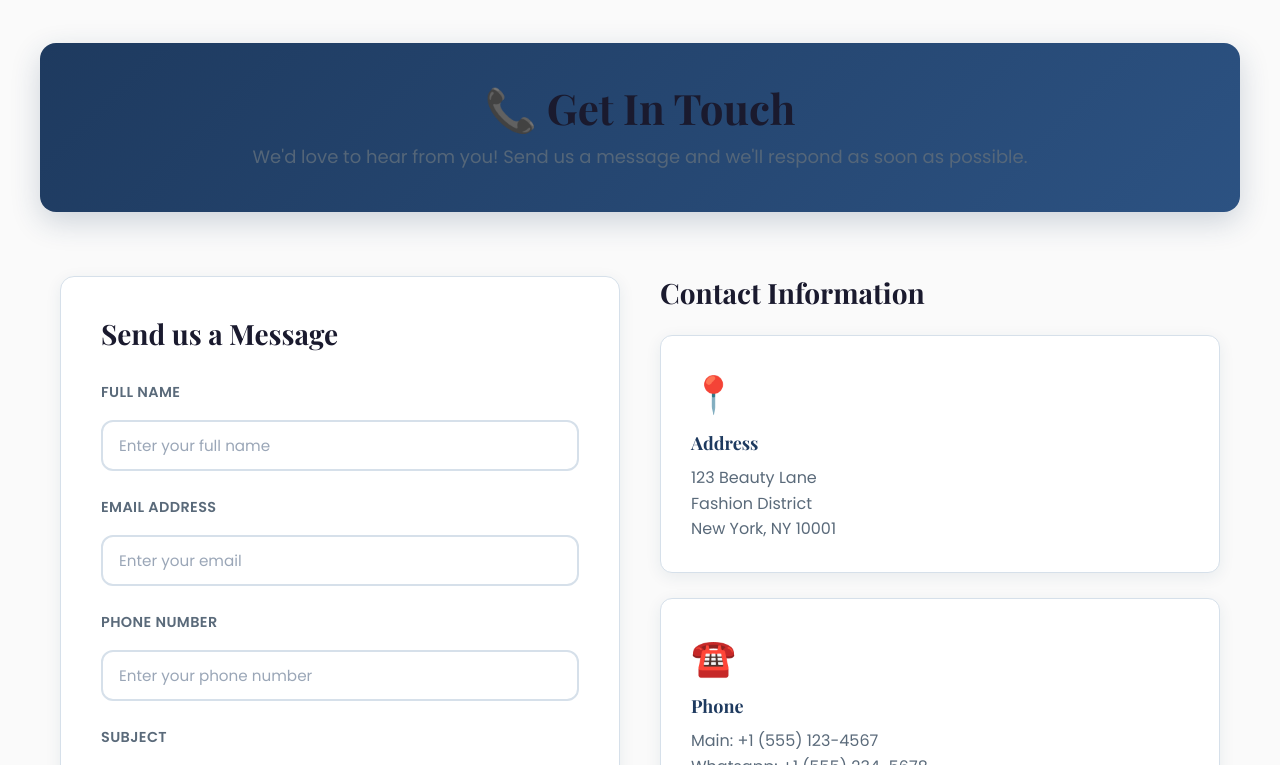
it: ContactUs page › shows success message after all fields are filled and submitted
The width and height of the screenshot is (1280, 765).
Type "Jane" into the field with placeholder "Enter your full name" at (340, 445), box [101,420,579,471]
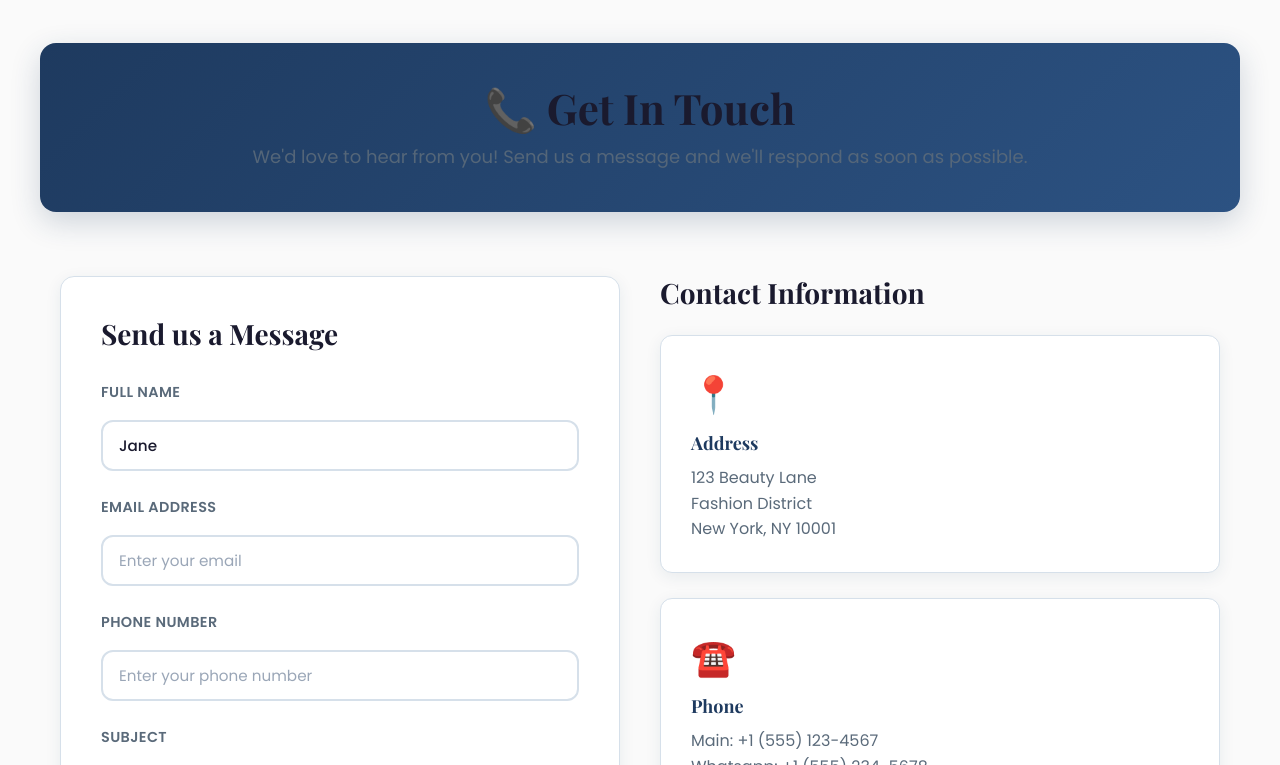
Type "jane@test.com" into the field with placeholder "Enter your email" at (340, 560), box [101,535,579,586]
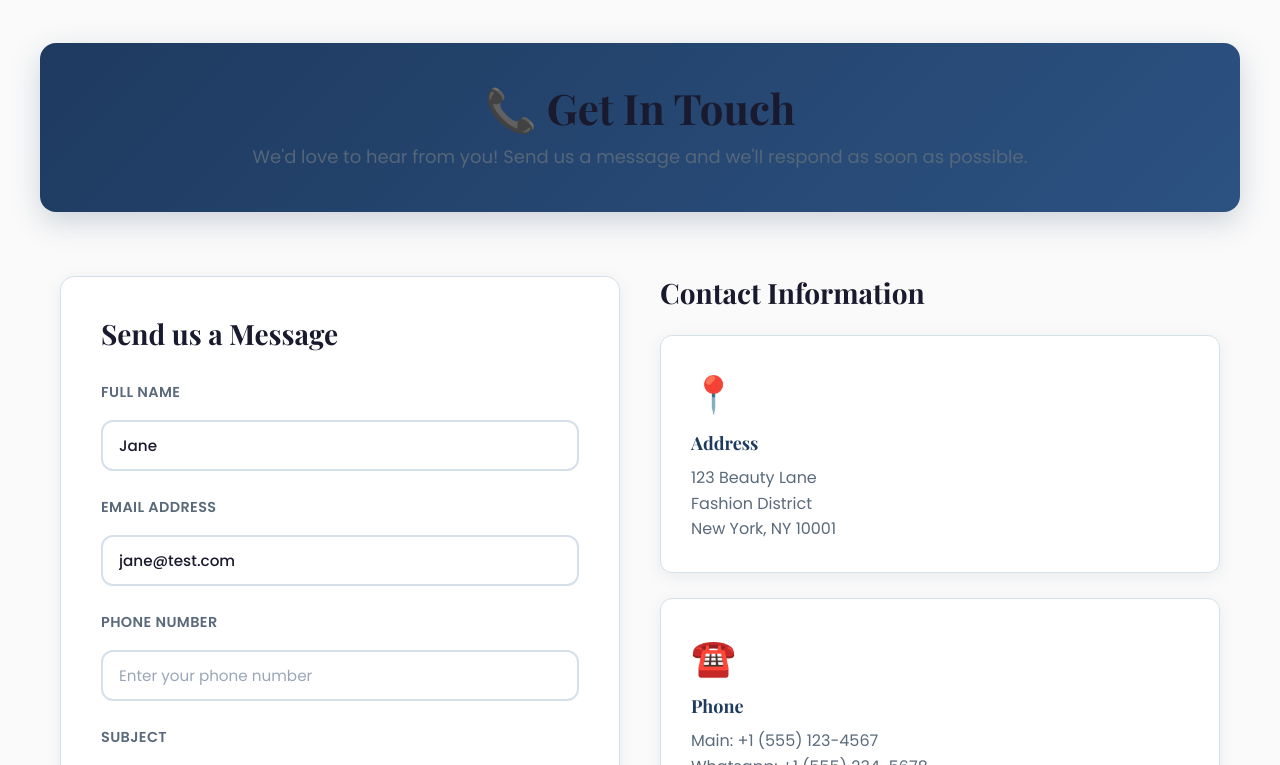
Type "1234567890" into the field with placeholder "Enter your phone number" at (340, 675), box [101,650,579,701]
(page scrolled)
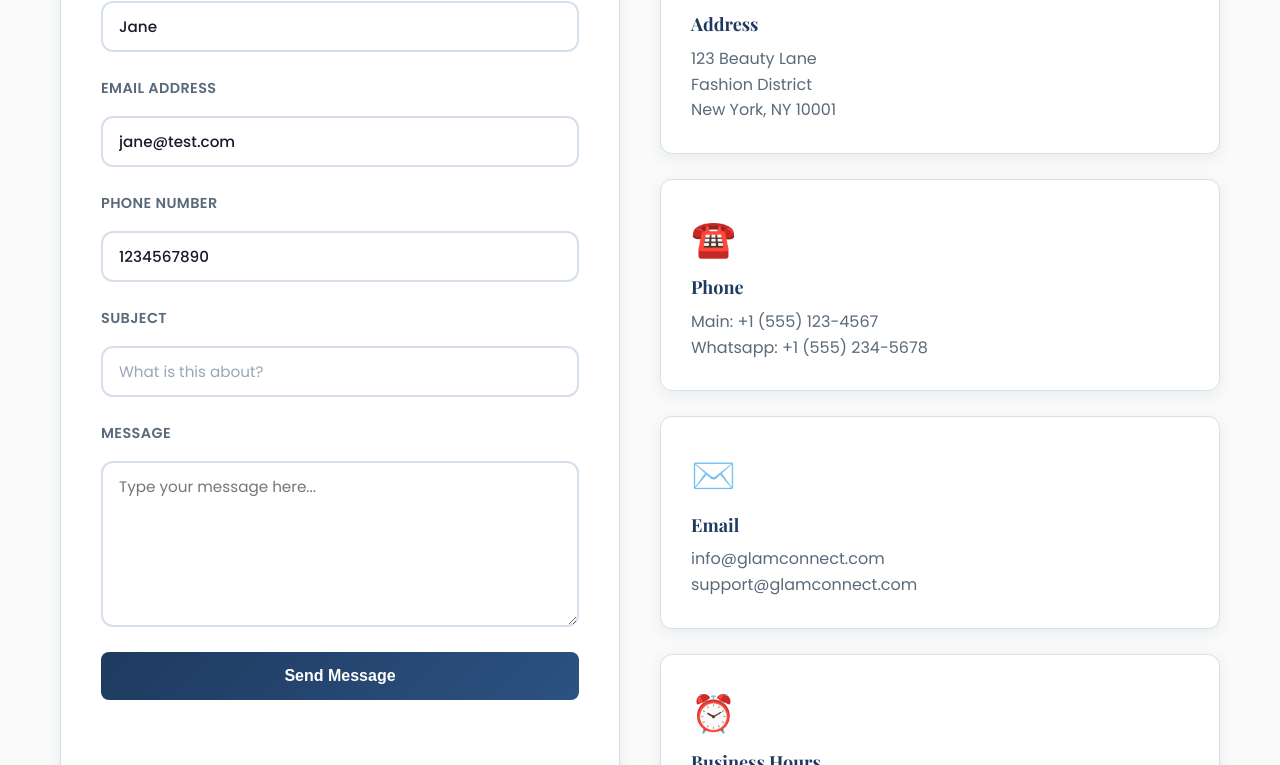
Type "Booking query" into the field with placeholder "What is this about?" at (340, 372), box [101,346,579,397]
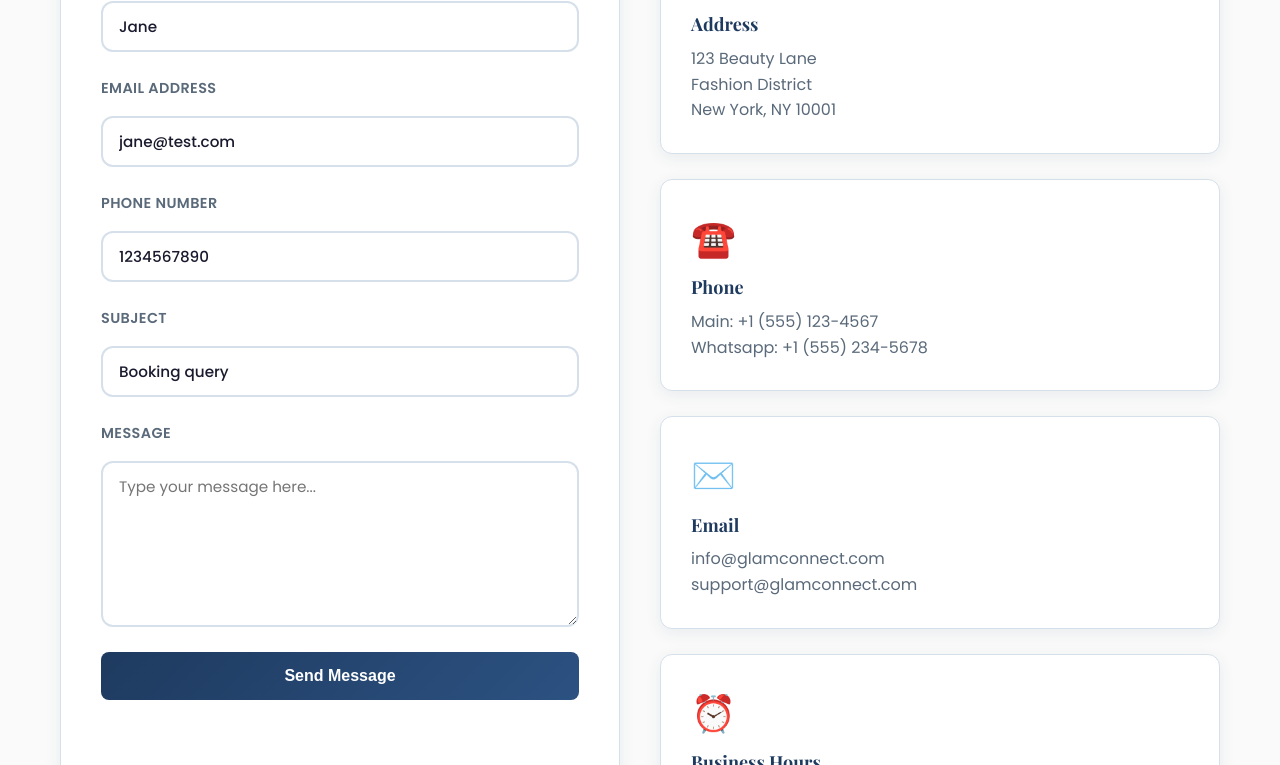
Type "Hello, I want to book a service." into the text box with placeholder "Type your message here..." at (340, 544), box [101,461,579,627]
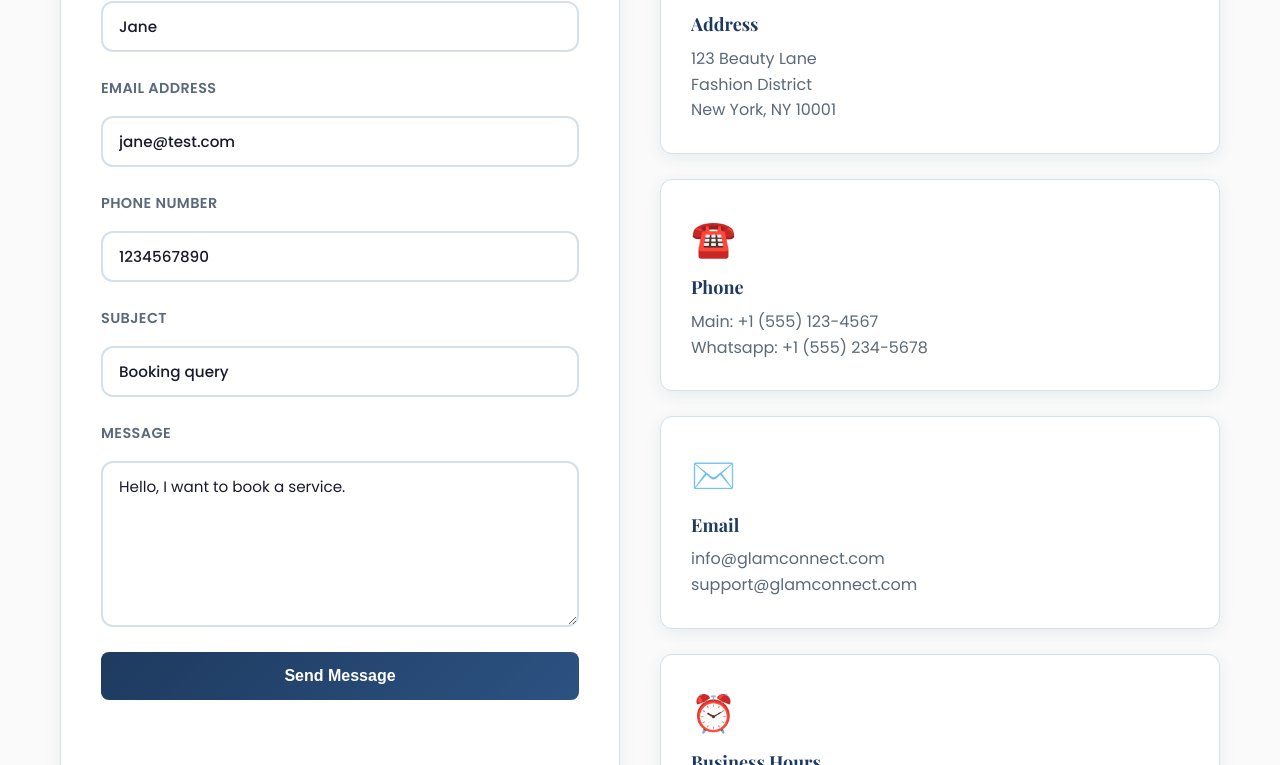
Click the button "Send Message" at (340, 676), box [101,652,579,700]
(page scrolled)
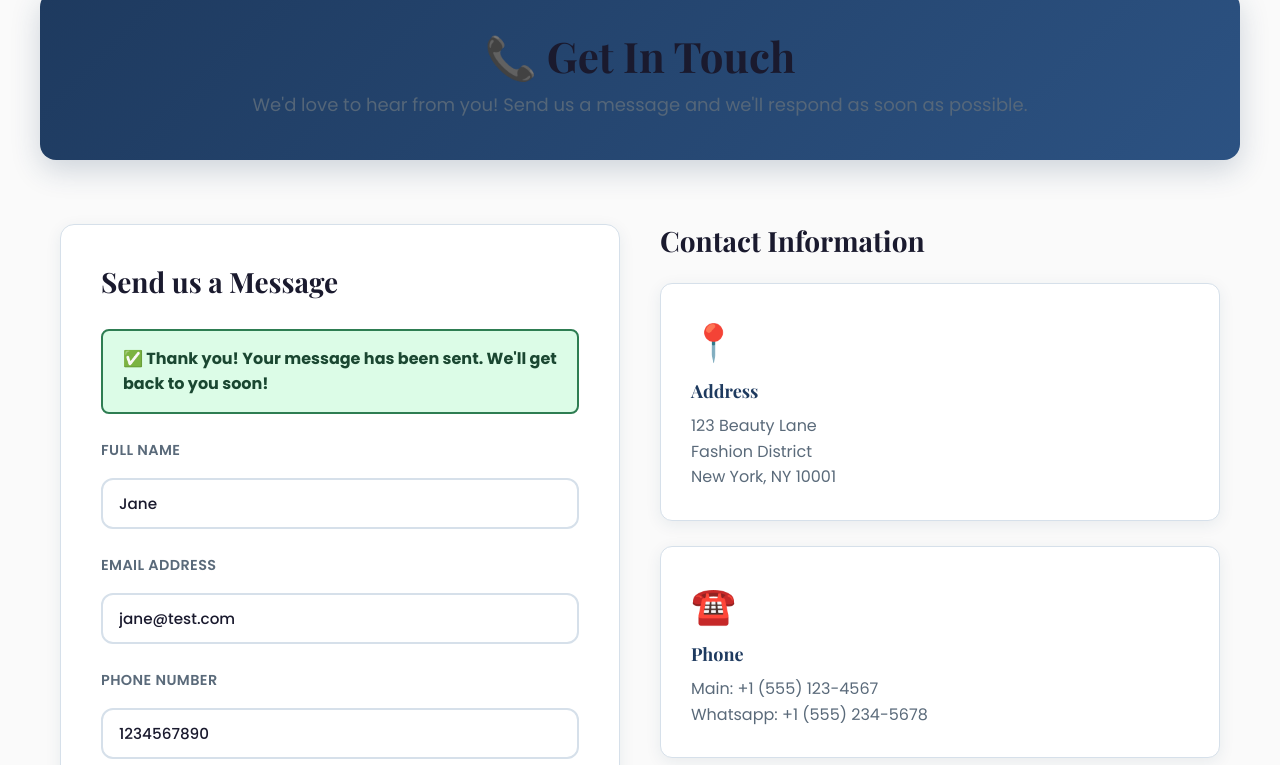
Check: the text "Your message has been sent" is shown, box [123,347,557,395]
